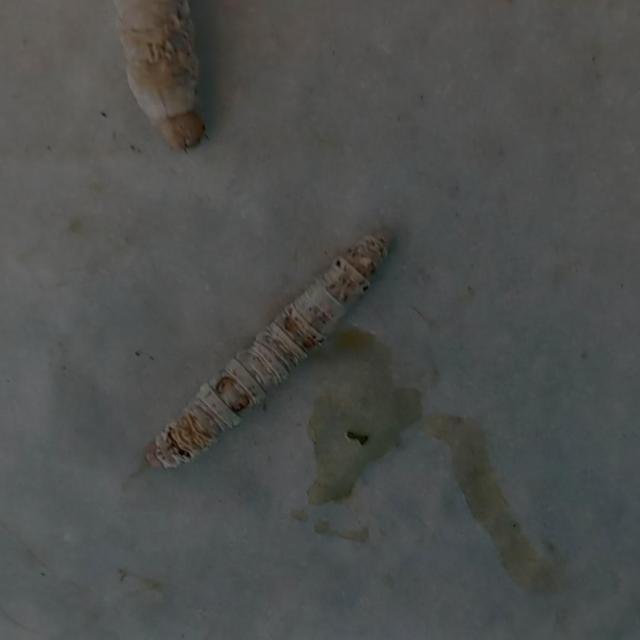Grasserie: (105, 190, 444, 480)
